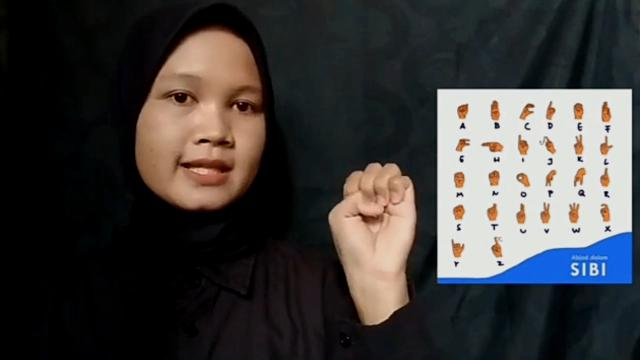E: (327, 162, 418, 284)
